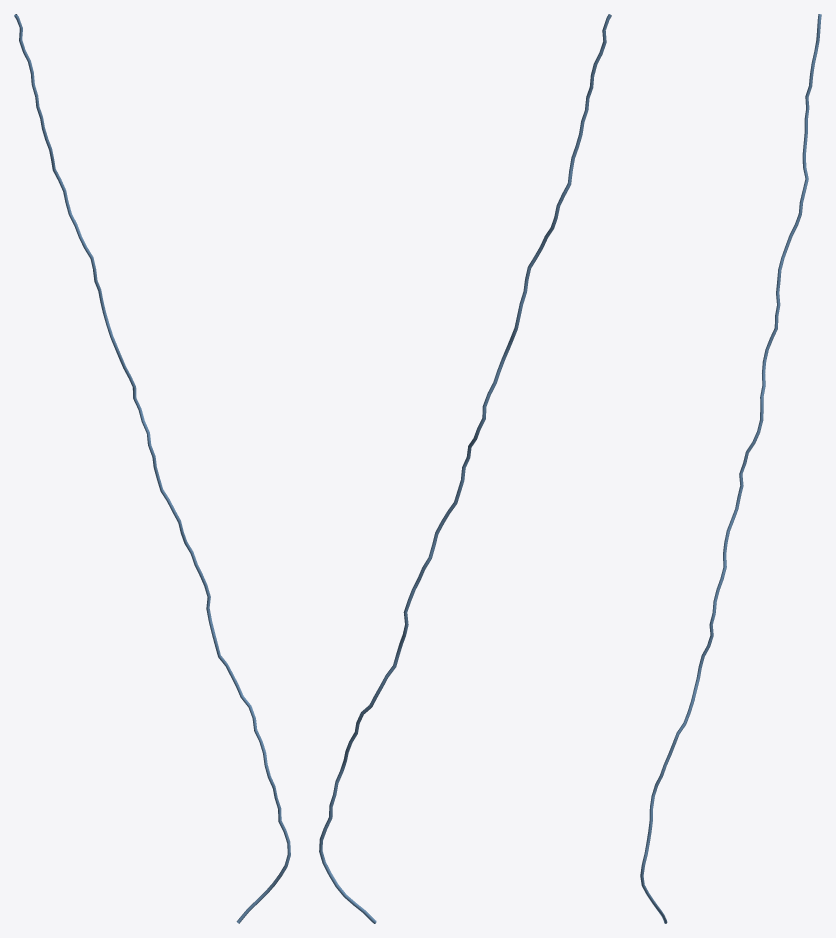
Rendered from sweep290.fbx.
The picture shows the model from 3 angles, left to right: view 1: azimuth 30°, elevation 25°; view 2: azimuth 210°, elevation 25°; view 3: azimuth 270°, elevation 25°; orthographic projection. The views are drawn at different scales.
Parts seen in each view (by area): view 1: sweep290; view 2: sweep290; view 3: sweep290.
Boxes of the visible parts, bbox=[...] form: sweep290: bbox=[14, 14, 290, 923]; sweep290: bbox=[319, 14, 611, 923]; sweep290: bbox=[640, 14, 821, 923].
Bounding box in the file's own units: 1.19 × 5.48 × 1.07.
